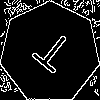T: (25, 27, 76, 82)
